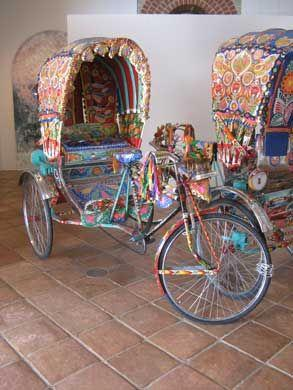Rickshaw: (20, 38, 270, 322), (212, 29, 292, 253)
